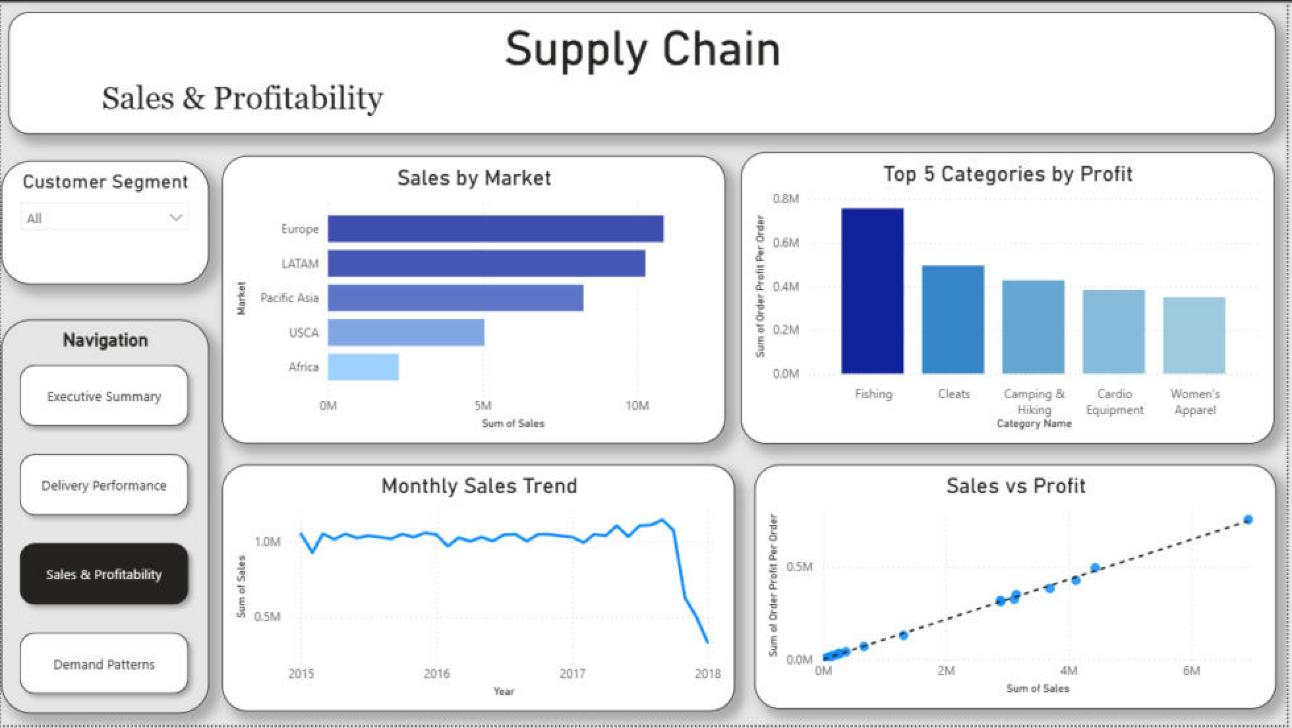

The dashboard page shown, as its layout file describes it:
{"tool":"powerbi","page":{"name":"Sales & Profitability","canvas":[1280,720],"ordinal":2},"visuals":[{"type":"barChart","title":"Sales by Market","fields":{"Category":["cleaned_supply_chain.Market"],"Y":["Sum(cleaned_supply_chain.Sales)"]},"box":[220,153.2,500.5,286.4],"z":0,"group":"g2"},{"type":"group","id":"g1","title":"Group 1","box":[0,157.7,206.9,550.2],"z":0},{"type":"slicer","title":"Customer Segment","fields":{"Values":["cleaned_supply_chain.Customer Segment"]},"box":[0,157.7,206.9,123.6],"z":0,"group":"g1"},{"type":"pageNavigator","title":"Navigation","box":[0,315.8,206.9,392],"z":1000,"group":"g1"},{"type":"lineChart","title":"Monthly Sales Trend","fields":{"Category":["cleaned_supply_chain.order date (DateOrders).Variation.Date Hierarchy.Year","cleaned_supply_chain.order date (DateOrders).Variation.Date Hierarchy.Month"],"Y":["Sum(cleaned_supply_chain.Sales)"]},"box":[220,461.1,510.7,245.9],"z":1000,"group":"g3"},{"type":"group","id":"g2","title":"Group 2","box":[220,149.5,1047.4,290.8],"z":2000},{"type":"columnChart","title":"Top 5 Categories by Profit","fields":{"Category":["cleaned_supply_chain.Category Name"],"Y":["Sum(cleaned_supply_chain.Order Profit Per Order)"]},"box":[736.5,149.5,530.9,290.8],"z":2000,"group":"g2"},{"type":"group","id":"g3","title":"Group 3","box":[220,460.8,1048.8,246.2],"z":3000},{"type":"scatterChart","title":"Sales vs Profit","fields":{"Category":["cleaned_supply_chain.Category Name"],"X":["Sum(cleaned_supply_chain.Sales)"],"Y":["Sum(cleaned_supply_chain.Order Profit Per Order)"]},"box":[749.5,460.8,519.4,243],"z":3000,"group":"g3"},{"type":"textbox","title":"Supply Chain","box":[7.2,10.1,1261.5,121.5],"z":4000}]}

Visuals, with their boxes in screenshot pixels (x1, y1, x2, y2), scaled from the page's 1280x720 canvas onto the 1292x728 screenshot:
"Sales by Market" barChart: x1=222, y1=155, x2=727, y2=444
"Group 1" group: x1=0, y1=159, x2=209, y2=716
"Customer Segment" slicer: x1=0, y1=159, x2=209, y2=284
"Navigation" pageNavigator: x1=0, y1=319, x2=209, y2=716
"Monthly Sales Trend" lineChart: x1=222, y1=466, x2=738, y2=715
"Group 2" group: x1=222, y1=151, x2=1279, y2=445
"Top 5 Categories by Profit" columnChart: x1=743, y1=151, x2=1279, y2=445
"Group 3" group: x1=222, y1=466, x2=1281, y2=715
"Sales vs Profit" scatterChart: x1=757, y1=466, x2=1281, y2=712
"Supply Chain" textbox: x1=7, y1=10, x2=1281, y2=133
